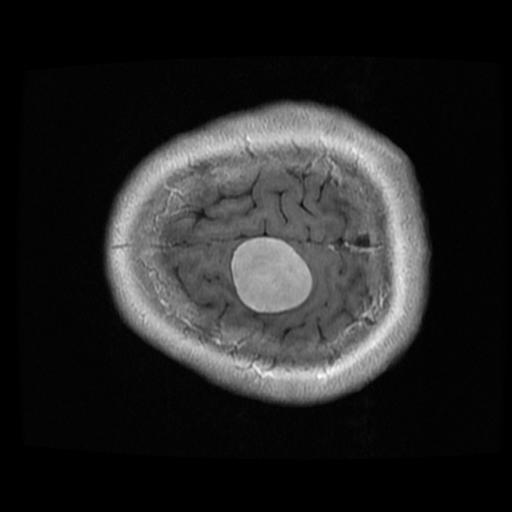meningioma: (230, 238, 312, 313)
